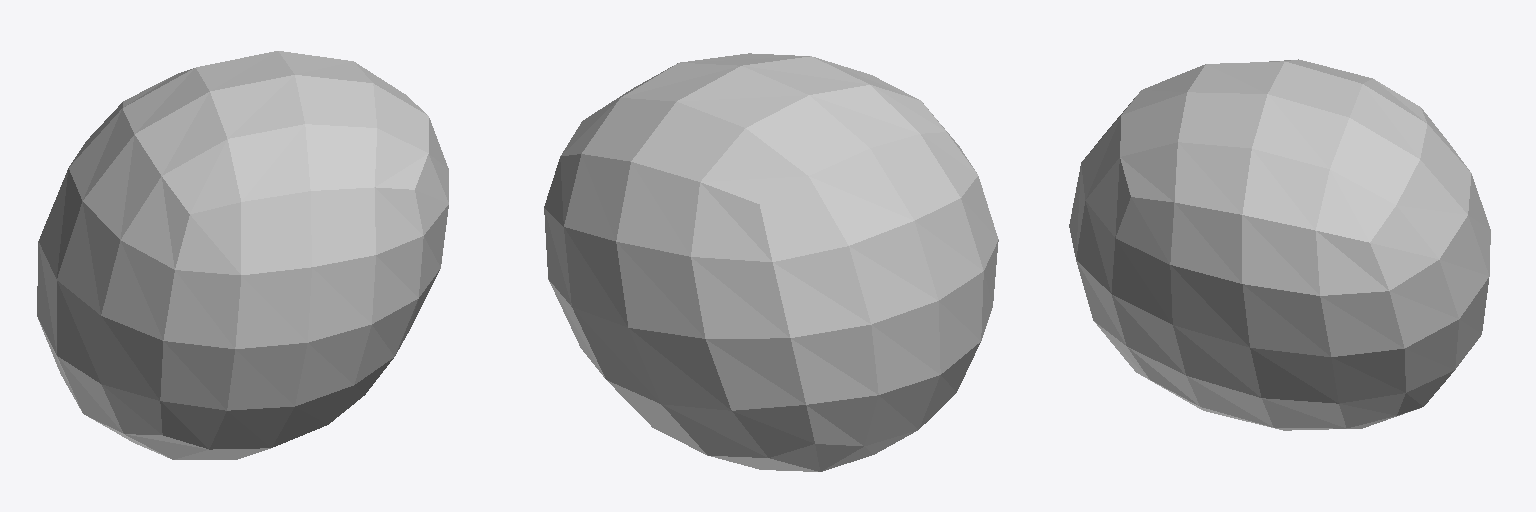
Rendered from catball.obj.
The picture shows the model from 3 angles: view 1: azimuth 30°, elevation 25°; view 2: azimuth 150°, elevation 25°; view 3: azimuth 270°, elevation 25°; orthographic projection.
Parts seen in each view (by area): view 1: Cube; view 2: Cube; view 3: Cube.
Boxes of the visible parts, <box> form: Cube: <box>37,51,448,459</box>; Cube: <box>544,53,998,471</box>; Cube: <box>1069,59,1490,430</box>.
Size of the model in its own units: 1.87 by 1.71 by 1.84.